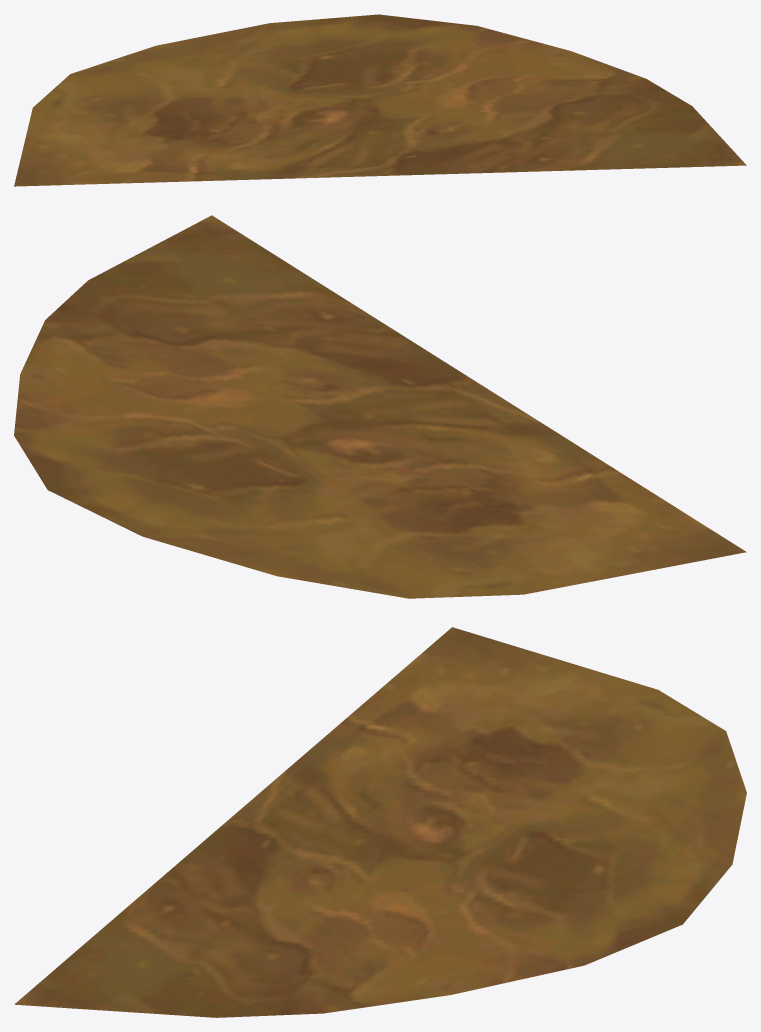
The model's file is HTOWN01_GARDEN03.fbx.
The picture shows the model from 3 angles, top to bottom: view 1: azimuth 30°, elevation 25°; view 2: azimuth 150°, elevation 25°; view 3: azimuth 270°, elevation 25°; orthographic projection. The views are drawn at different scales.
Parts seen in each view (by area): view 1: HTOWN01_GARDEN03; view 2: HTOWN01_GARDEN03; view 3: HTOWN01_GARDEN03.
Part boxes in pixels (x1,y1,x2,y2): HTOWN01_GARDEN03: [14, 14, 746, 186]; HTOWN01_GARDEN03: [14, 215, 746, 598]; HTOWN01_GARDEN03: [14, 627, 746, 1017].
Size of the model in its own units: 41620 by 0.0069 by 32993.
1 material, 1 textured.
